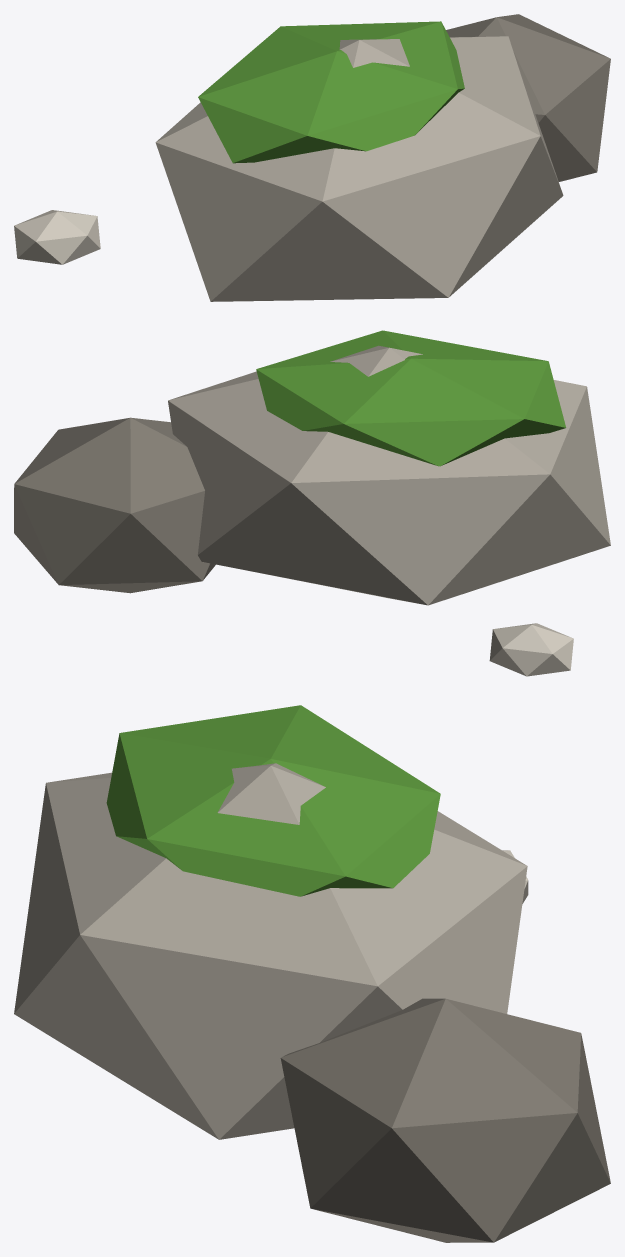
The model's file is rock.fbx.
The picture shows the model from 3 angles, top to bottom: view 1: azimuth 30°, elevation 25°; view 2: azimuth 150°, elevation 25°; view 3: azimuth 270°, elevation 25°; orthographic projection. The views are drawn at different scales.
Visible parts, largest first — view 1: rock; view 2: rock; view 3: rock.
Part boxes in pixels (<box>): rock: <box>14,14,610,301</box>; rock: <box>14,330,610,676</box>; rock: <box>14,705,610,1242</box>.
Bounding box in the file's own units: 0.2534 × 0.11 × 0.1706.
